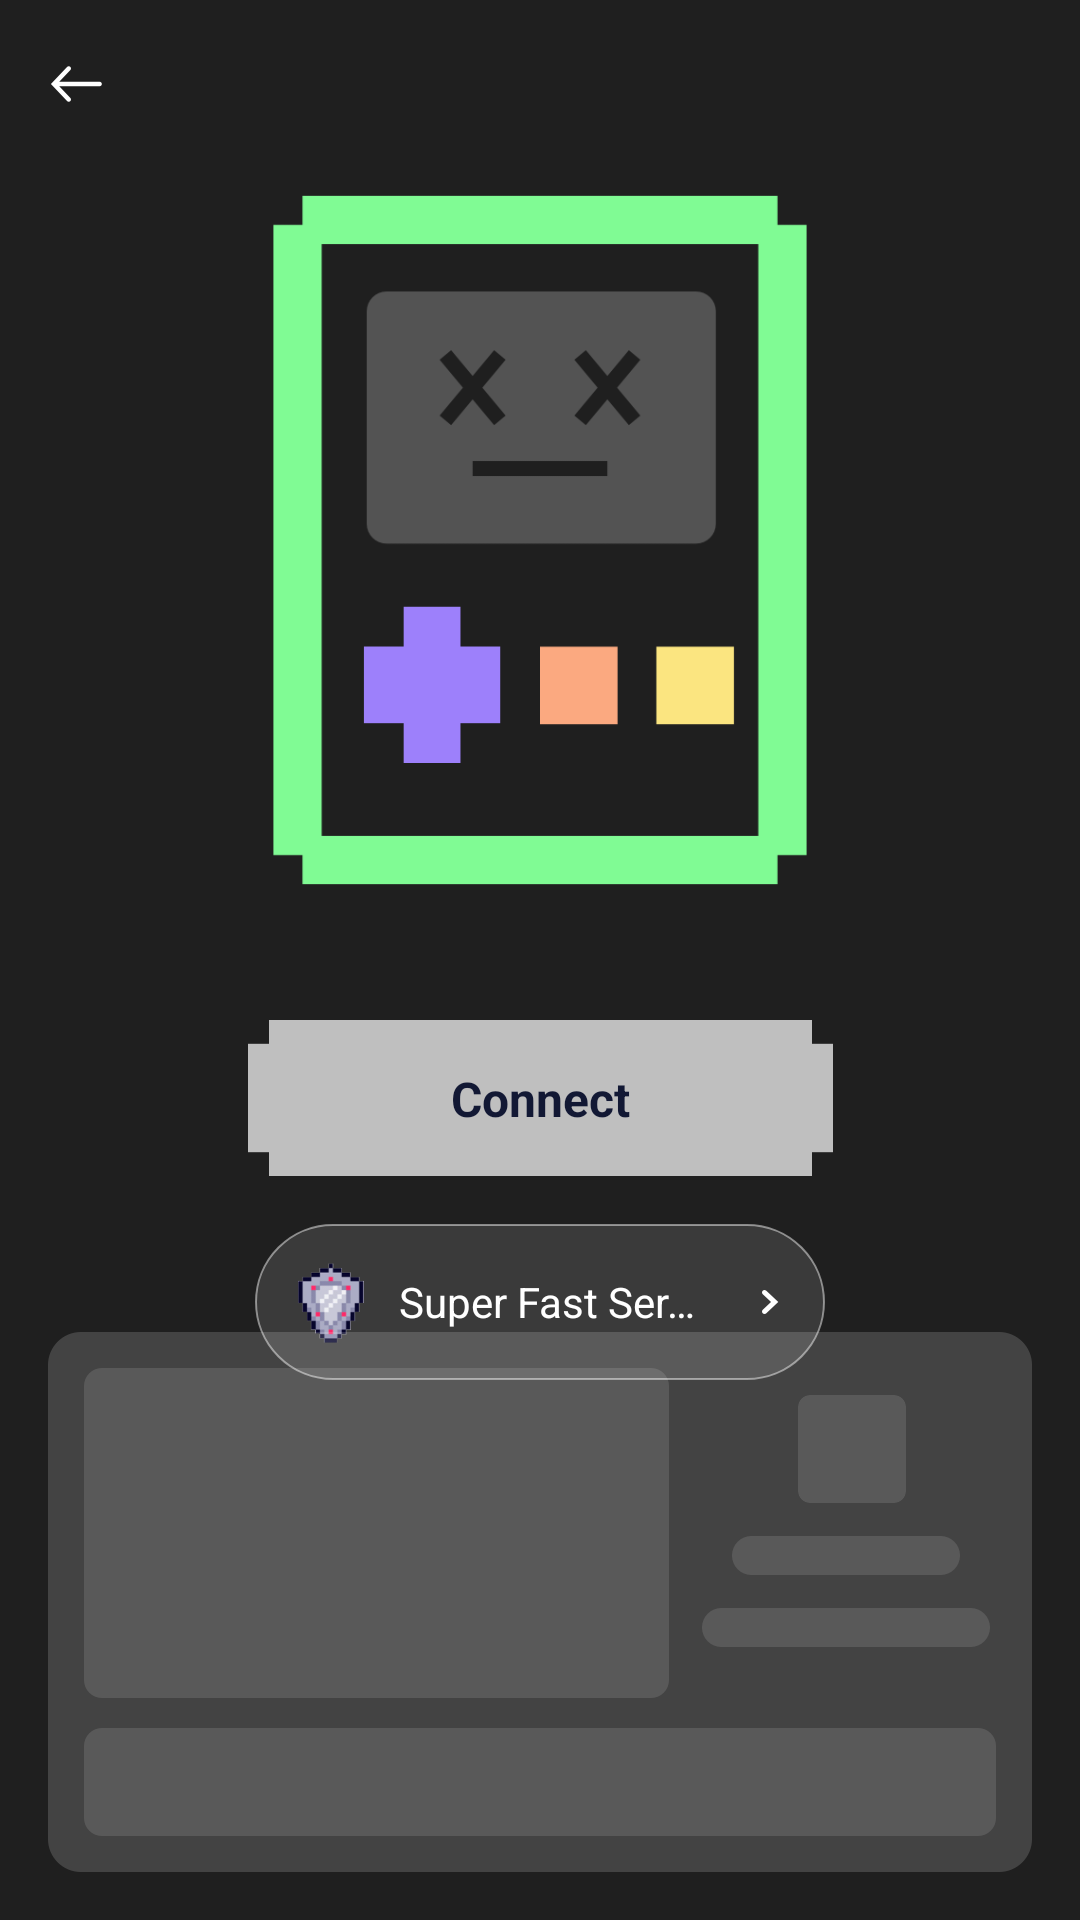

Named icons in this screenshot (1080x1920) and their centers, [x,y]:
back: [76,84]
right: [770,1302]
